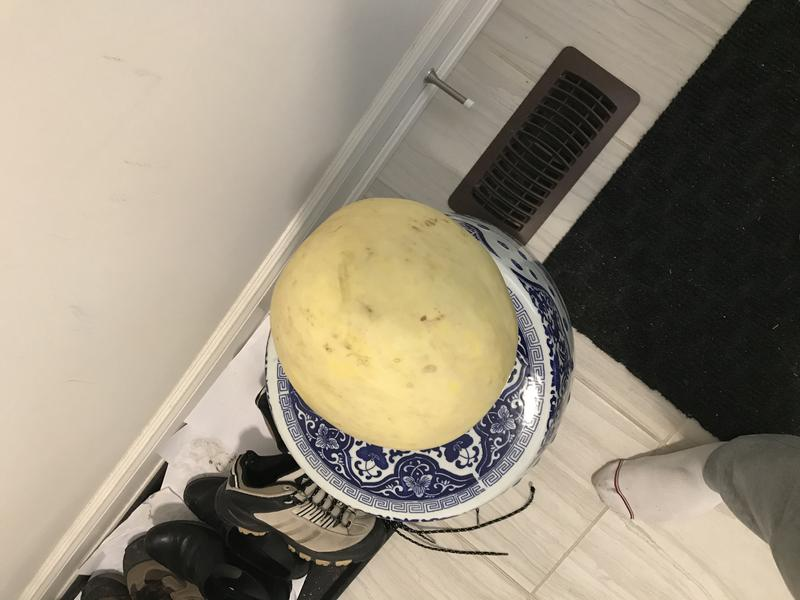honeydew: (260, 186, 535, 462)
